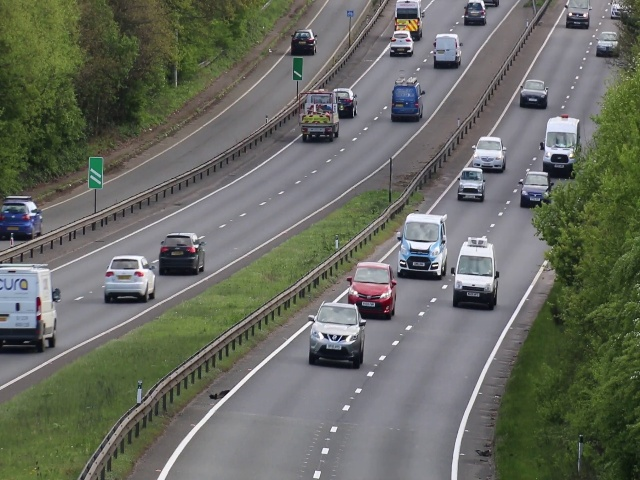car: (1, 264, 62, 350), (306, 300, 363, 369), (400, 212, 446, 280), (348, 258, 396, 318), (104, 255, 157, 306), (456, 245, 496, 308), (297, 90, 341, 143), (156, 233, 208, 277), (541, 116, 578, 176), (1, 197, 42, 239), (390, 80, 425, 122), (472, 133, 505, 173), (392, 1, 423, 38), (432, 32, 462, 69), (522, 167, 549, 208), (327, 84, 358, 117), (457, 166, 483, 202), (520, 77, 546, 109), (290, 27, 318, 55), (389, 26, 413, 58), (565, 1, 588, 31), (596, 28, 615, 57), (464, 1, 488, 23)
